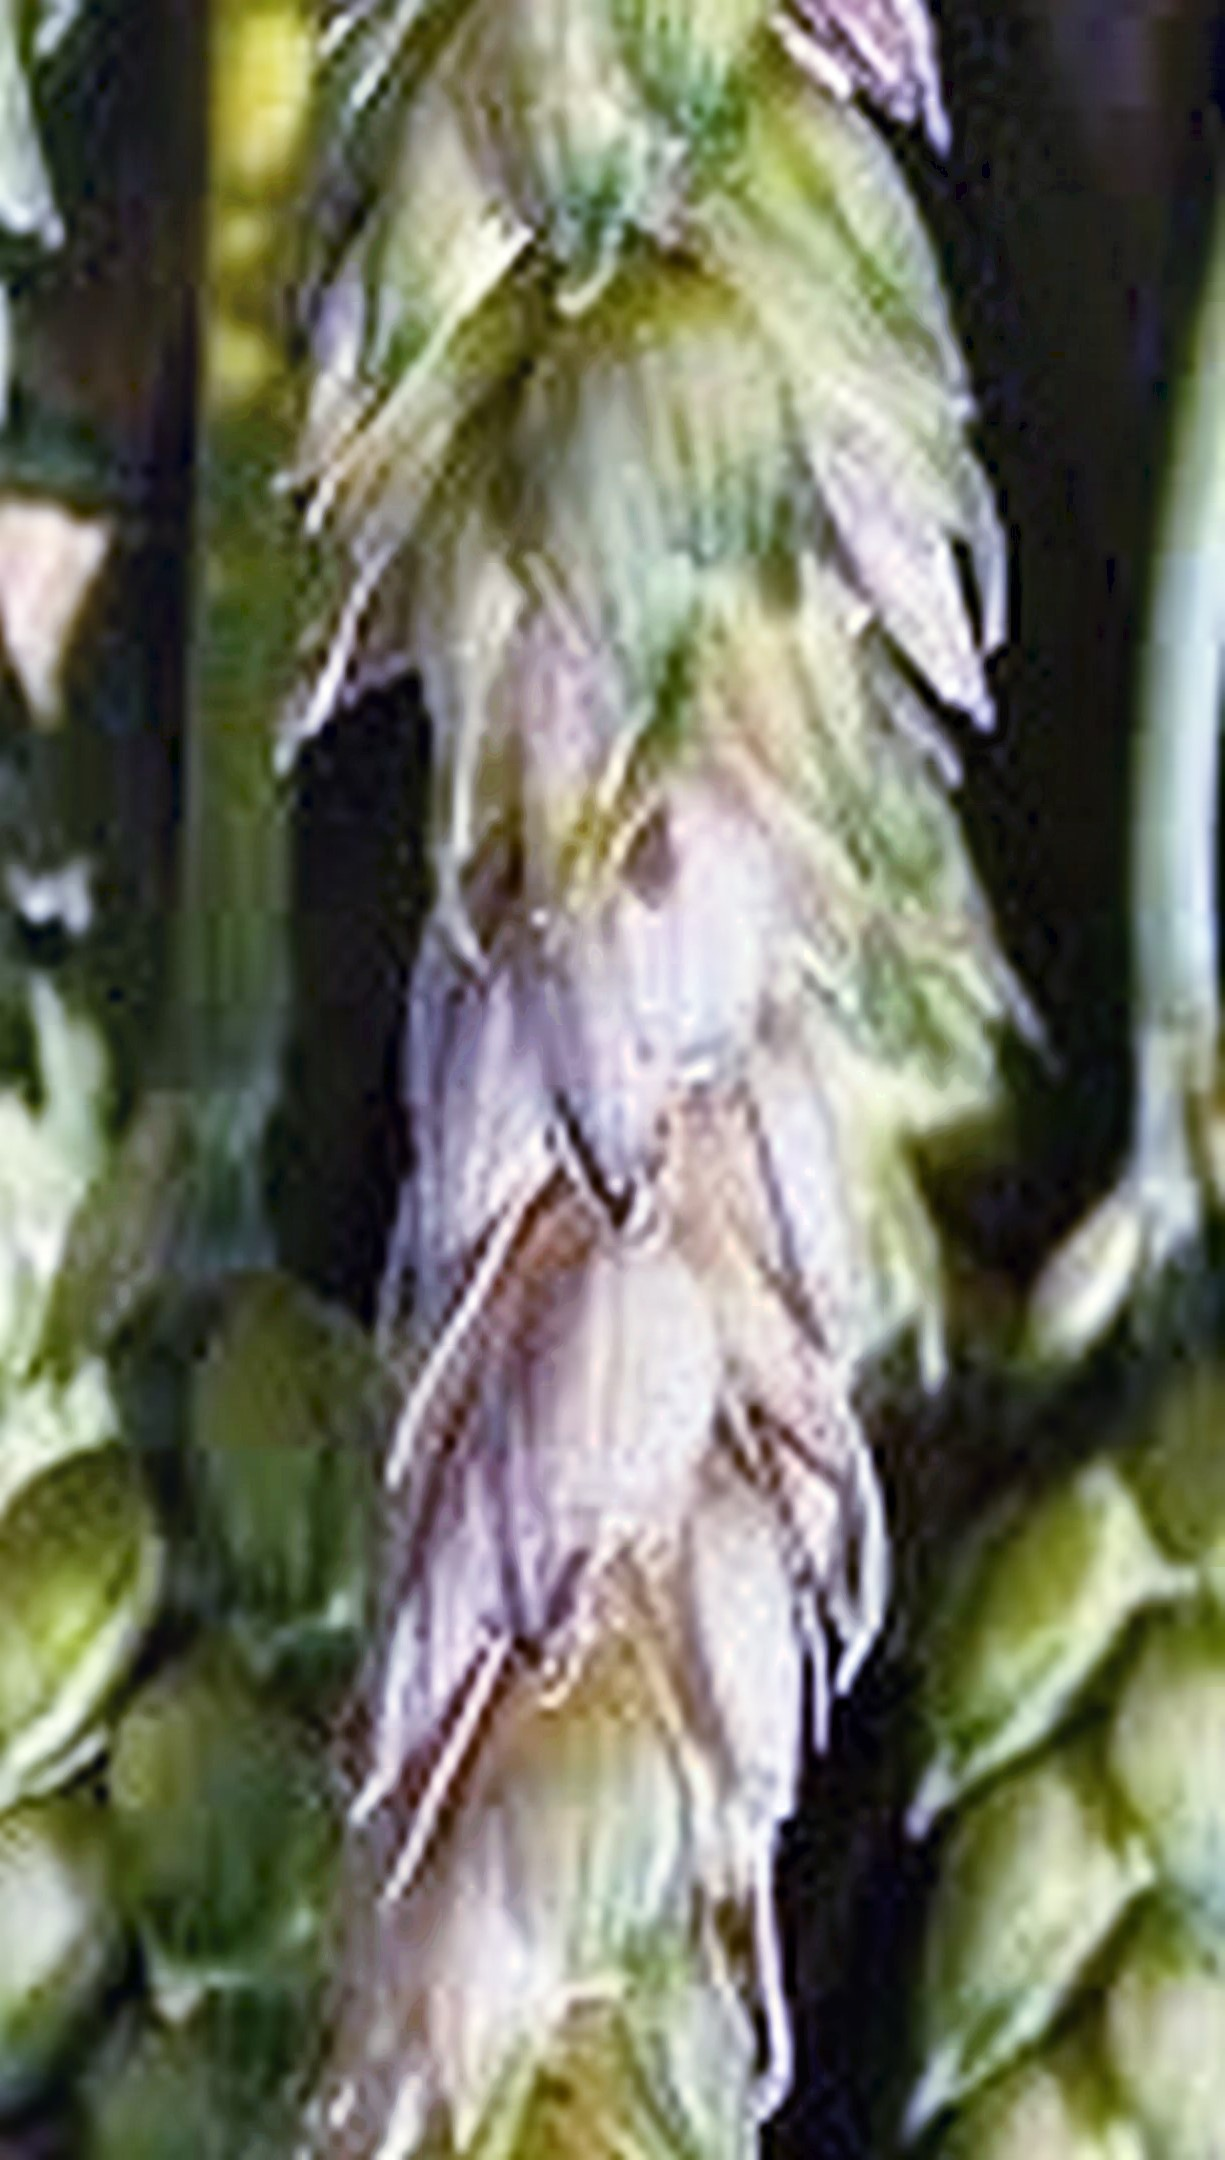Wheat scab: (274, 33, 939, 2110)
